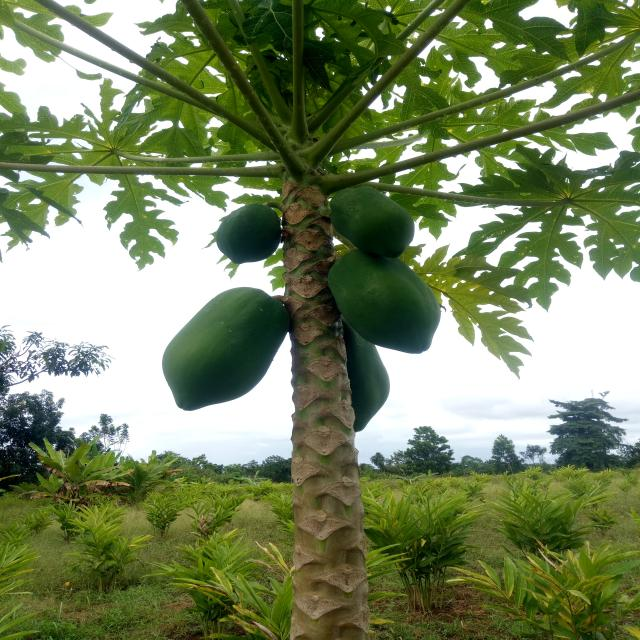Pepaya unrippen: (167, 291, 276, 405), (327, 259, 428, 353), (328, 188, 410, 258), (219, 205, 290, 271)
